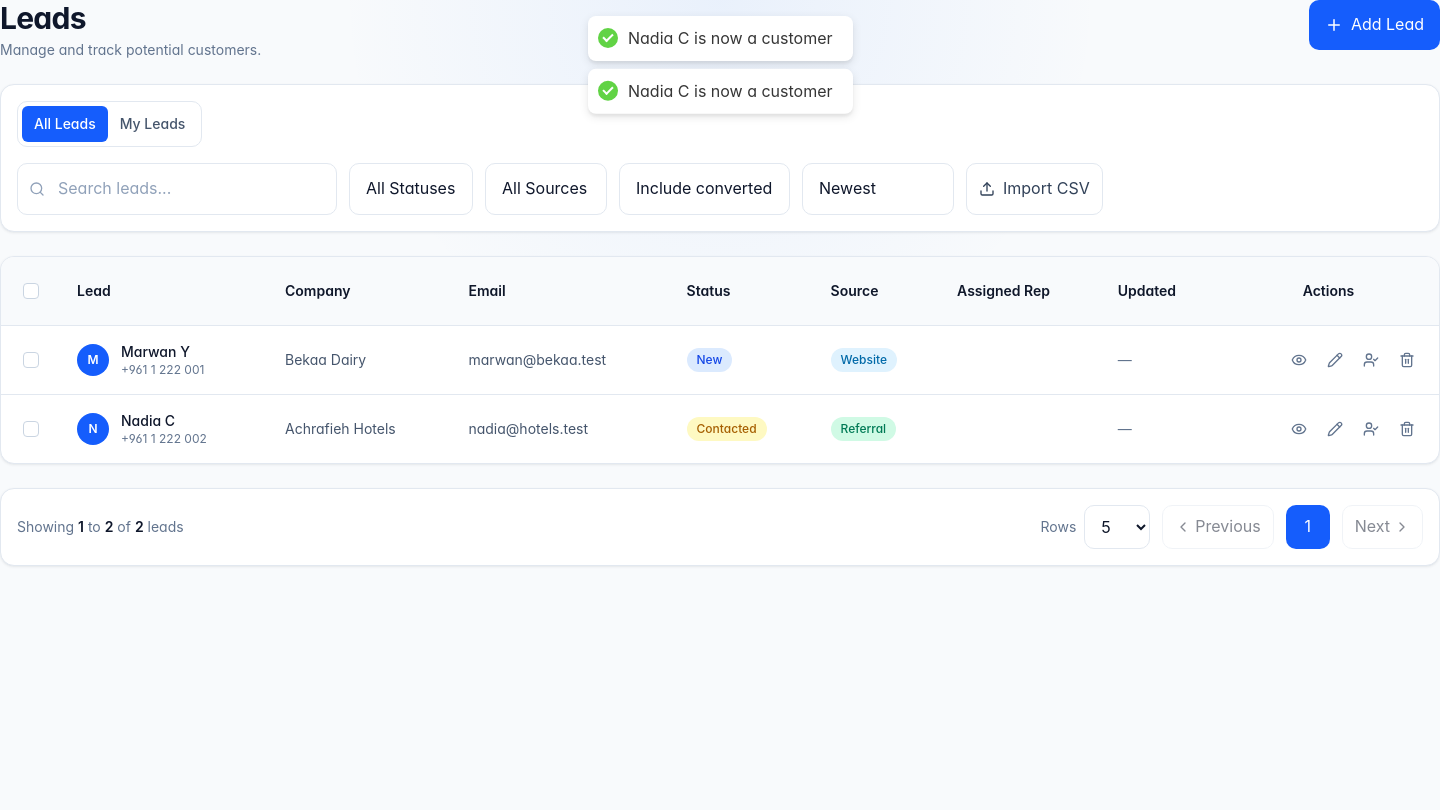
Scenario: Lead — conversion › closes the dialog on success
Click the button named "Convert Nadia C to a customer": (1371, 429) [1355, 413, 1387, 445]
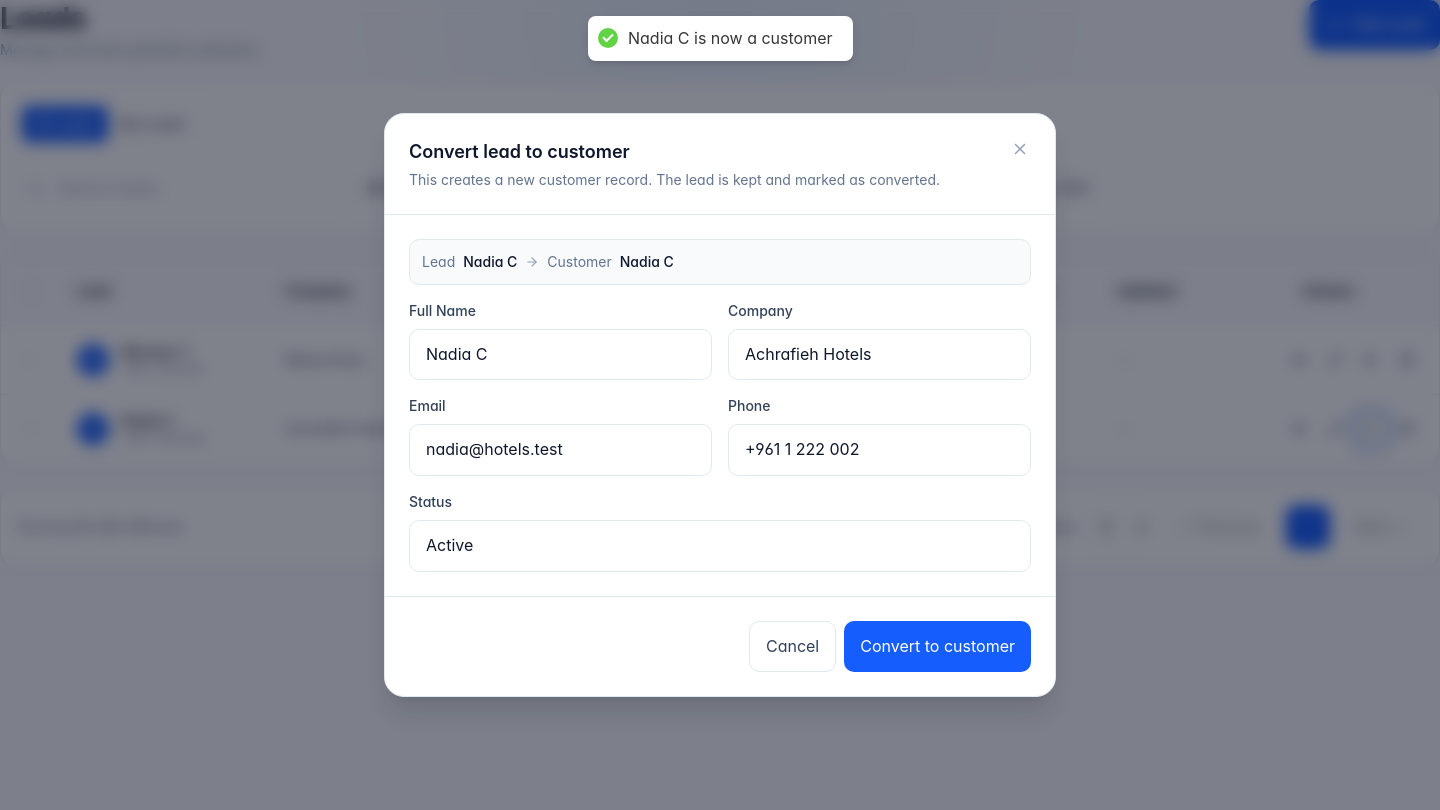
Click the button "Convert to customer": (938, 646) [844, 621, 1031, 672]
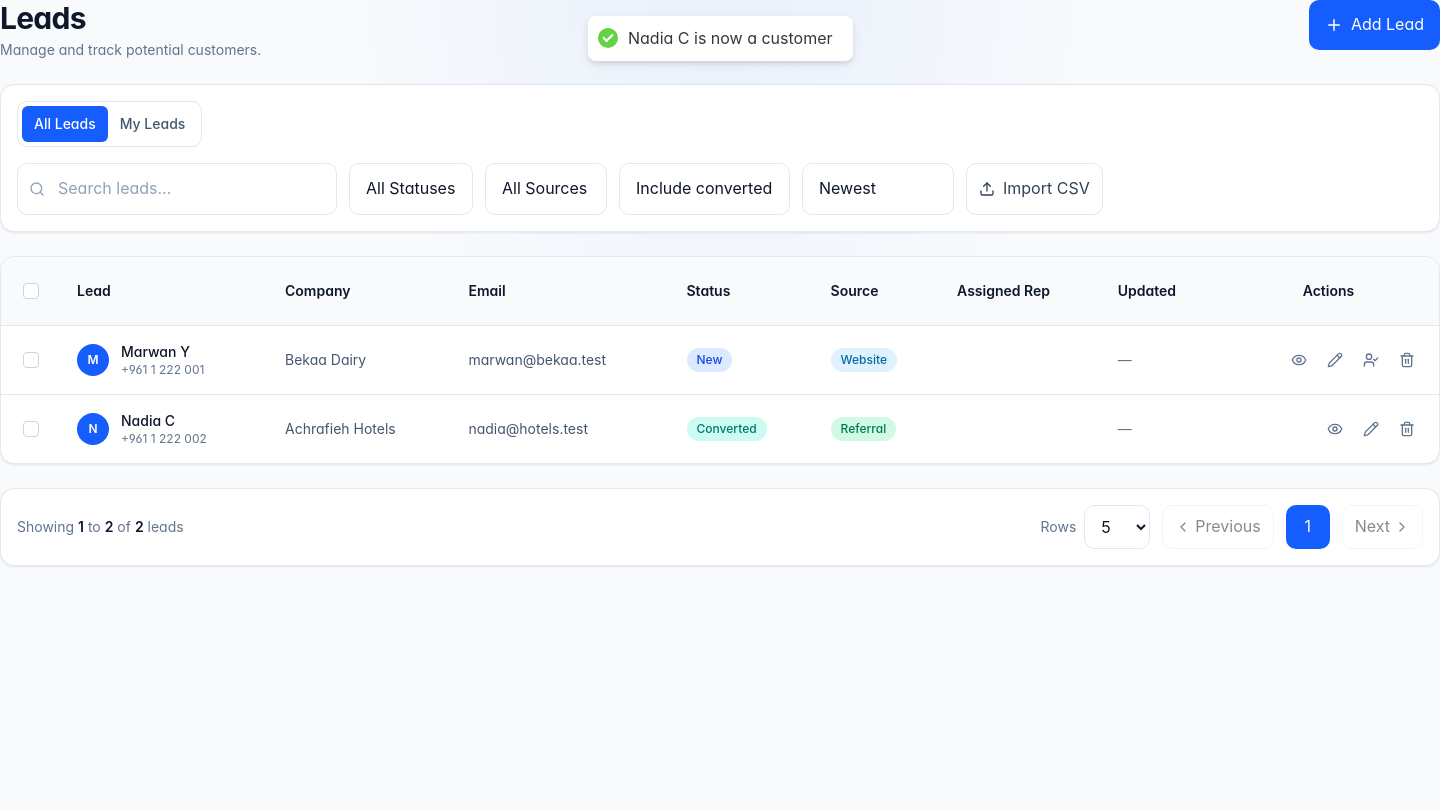
Result: the dialog is gone
